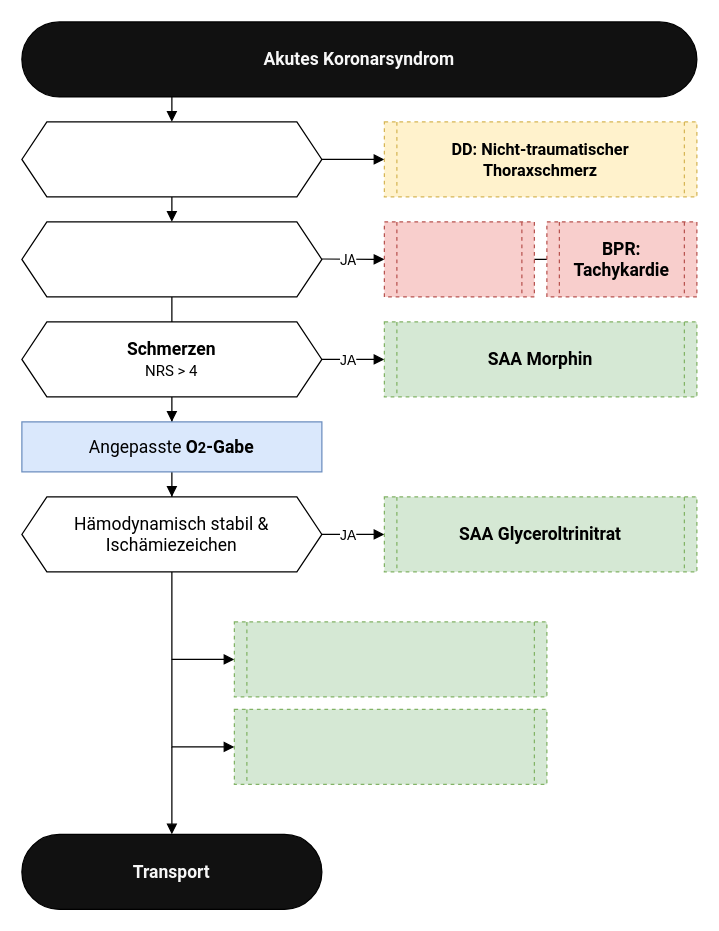
Image size: 719x931. Some labels were removed from this diagram. Here are the shapes that lost their labels. From the top down, the centre of each, then its label:
(x=171, y=159): Differentialdiagnosen beachtet?
(x=171, y=259): Rhythmusstörung?
(x=458, y=259): BPR: Bradykardie
(x=390, y=659): SAA Acetylsalicylsäure
(x=390, y=746): SAA Heparin
